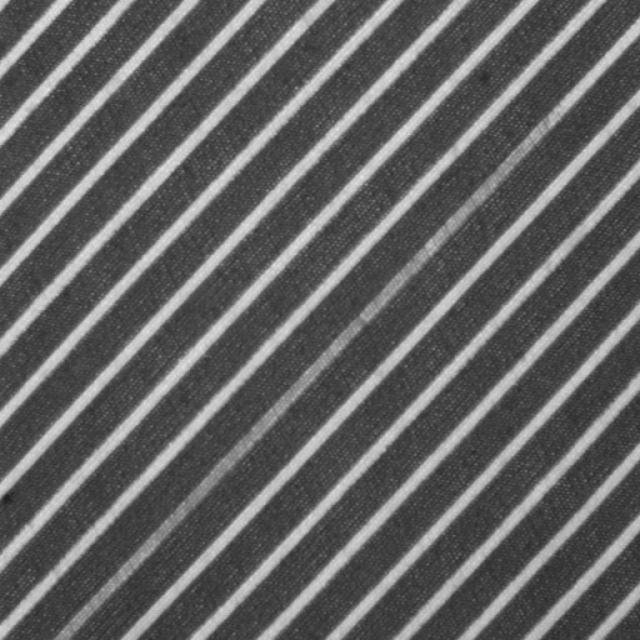Stain-Defect: (54, 108, 565, 639), (639, 639, 640, 640)
